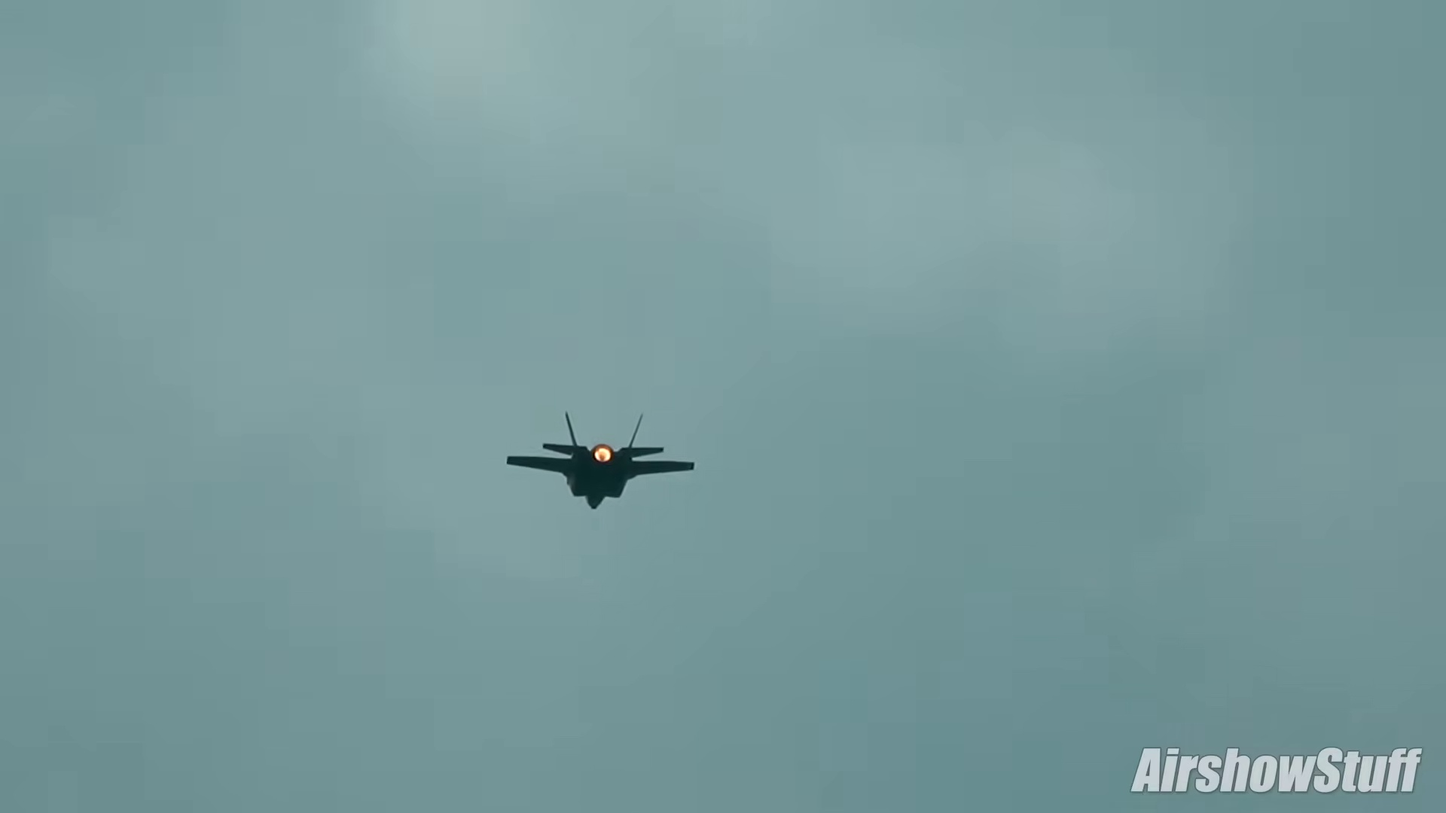F35: (503, 407, 698, 512)
